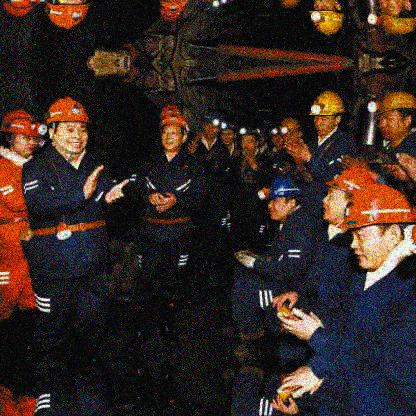helmet: (337, 182, 415, 269), (42, 96, 94, 152), (322, 168, 376, 221), (1, 109, 43, 156), (374, 91, 416, 138), (263, 175, 303, 220), (308, 89, 346, 136), (374, 1, 416, 36), (308, 1, 345, 36), (159, 110, 190, 149), (238, 125, 261, 153), (281, 116, 301, 145), (202, 111, 220, 137), (220, 120, 237, 145), (270, 128, 284, 147)
